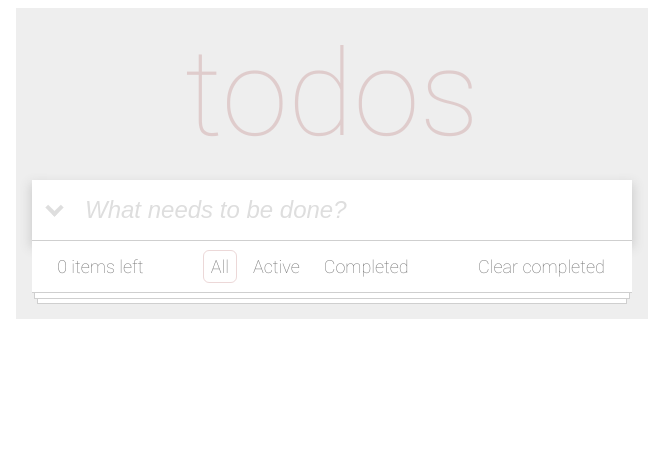
Test case: TodoApp Component › check toggle if click, change done and count
The width and height of the screenshot is (665, 458).
Type "Test Task 1" into the field with placeholder "What needs to be done?" at (354, 210), box [77,180,632,240]
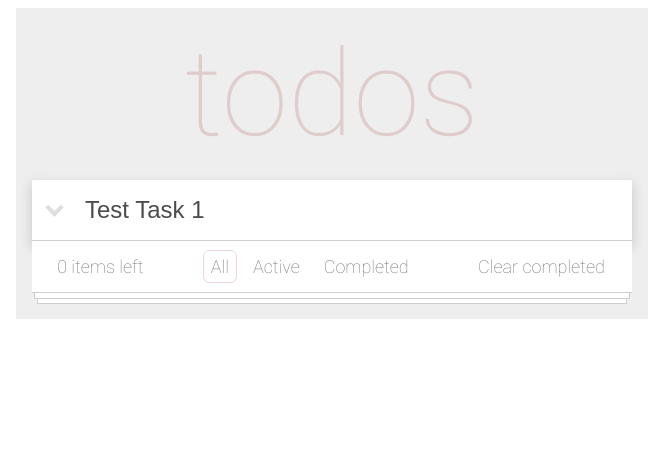
Submit the form named "to create a new task", box [32,180,632,241]
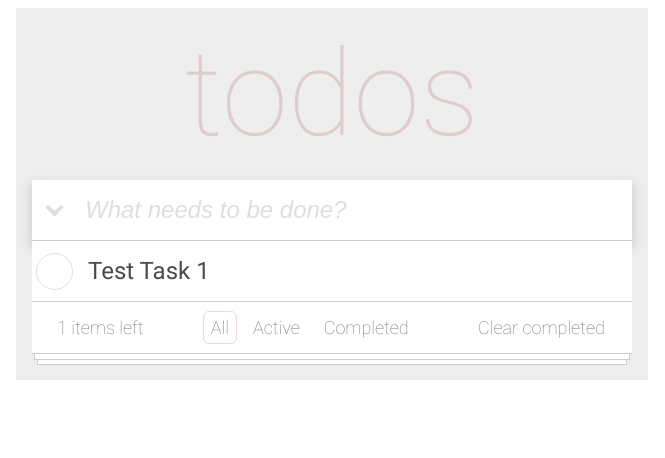
Type "Test Task 2" into the field with placeholder "What needs to be done?" at (354, 210), box [77,180,632,240]
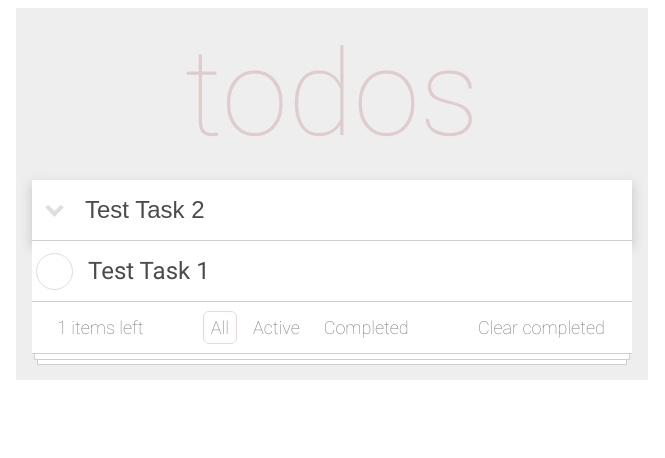
Submit the form named "to create a new task", box [32,180,632,241]
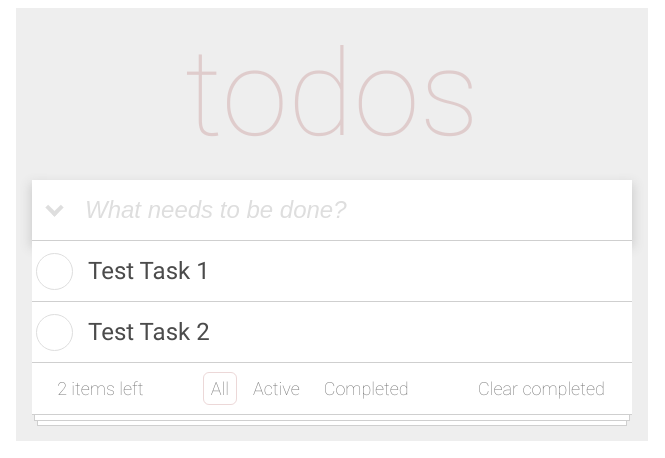
Expected: the checkbox labelled "Test Task 1" is not checked
Expected: the text "2 items left" is shown, [57,378,143,399]
Click the checkbox labelled "Test Task 1" at (54, 271), box [37,254,72,288]
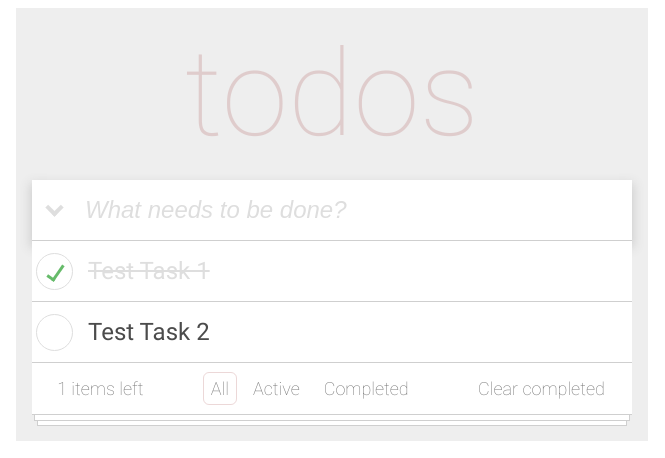
Expected: the checkbox labelled "Test Task 1" is checked
Expected: the text "1 items left" is shown, [57,378,143,399]
Click the checkbox labelled "Test Task 1" at (54, 271), box [37,254,72,288]
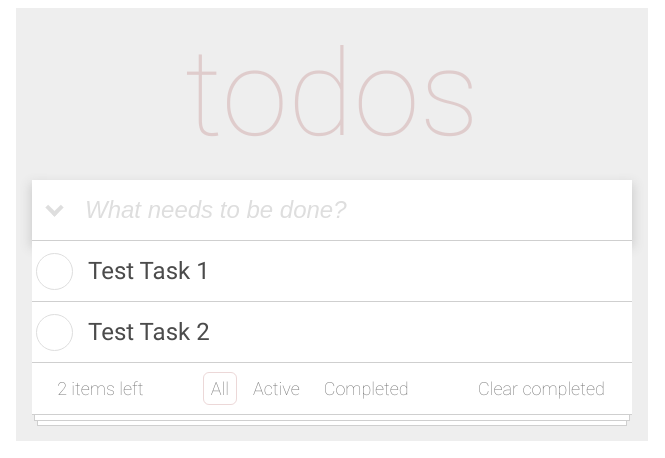
Expected: the checkbox labelled "Test Task 1" is not checked, [37,254,72,288]
Expected: the text "2 items left" is shown, [57,378,143,399]
